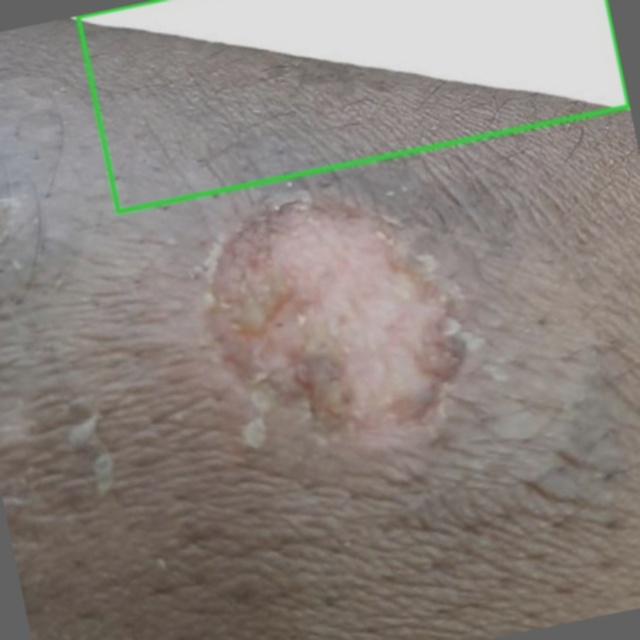Contact Dermatitis: (78, 0, 628, 211)
